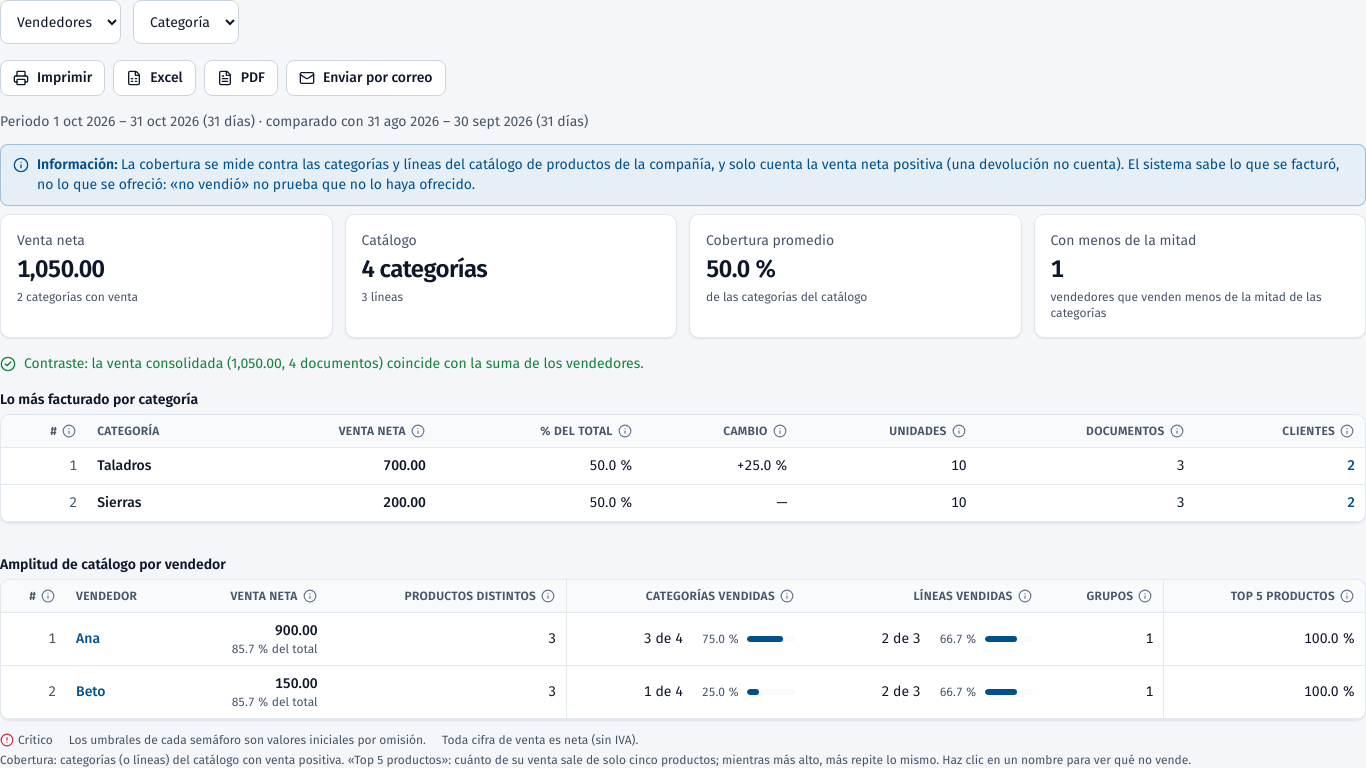
Test: mezcla de productos › abre el detalle con lo que la persona no vende y los productos estrella que le faltan
(page scrolled)
Click the button with aria-label "Ver el detalle de Beto" at (91, 692), box [76,682,106,702]
(page scrolled)
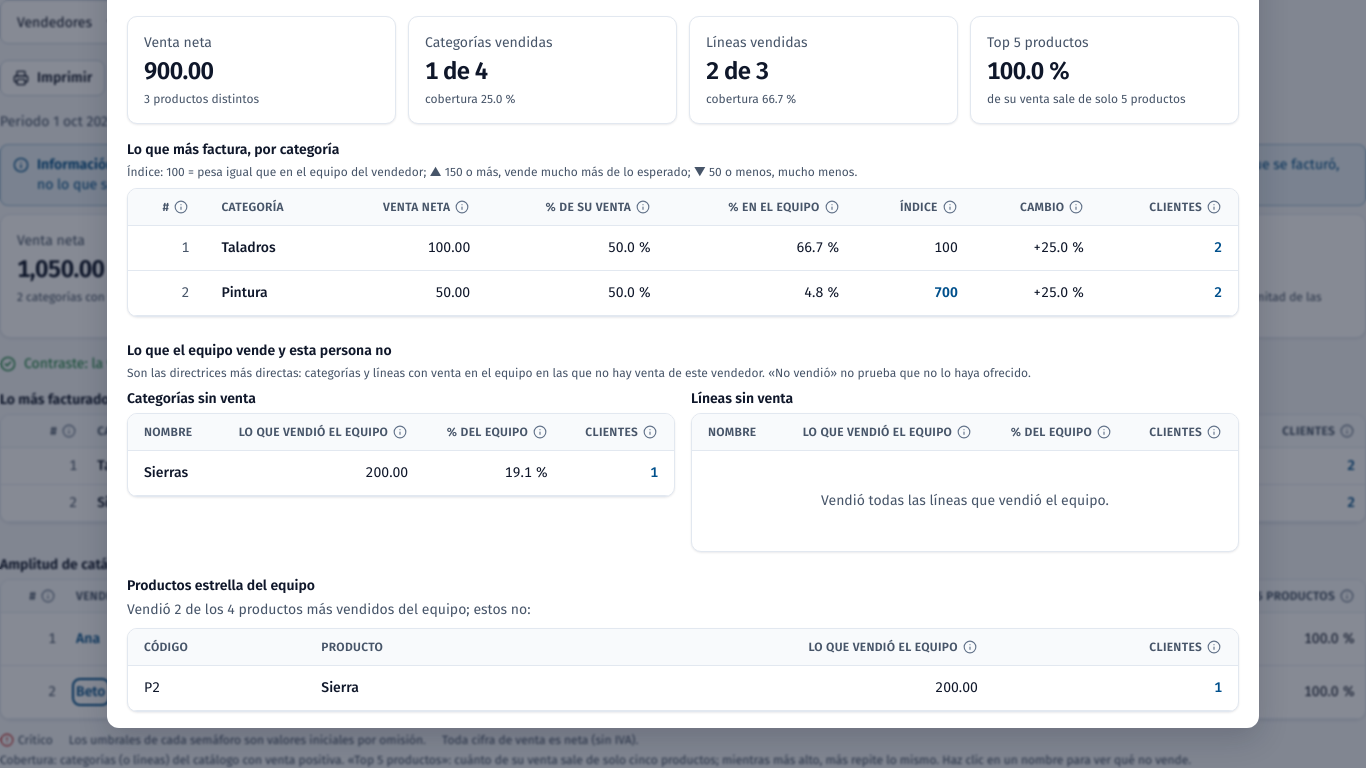
Result: the heading "Categorías sin venta" is shown at [127,390,256,407]
Result: the table named "Categorías sin venta" shows "Sierras" at [144,464,188,481]
Result: the text "Vendió 2 de los 4 productos más vendidos" is shown at [127,601,531,618]
